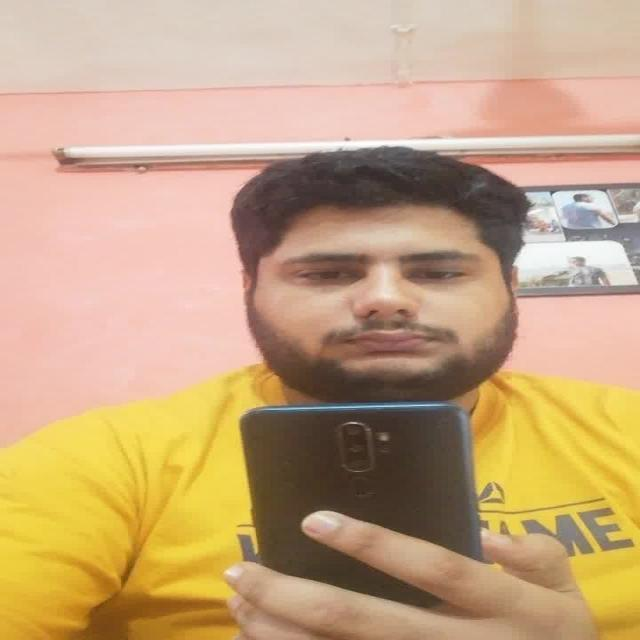Phone: (239, 405, 481, 612)
